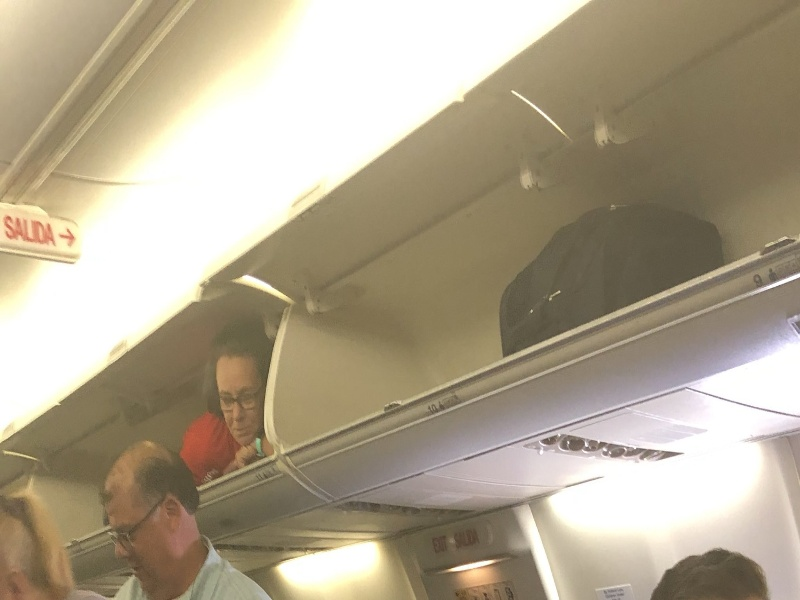open_bin: (476, 3, 795, 404), (276, 98, 469, 492), (71, 258, 255, 557), (1, 398, 66, 551)
